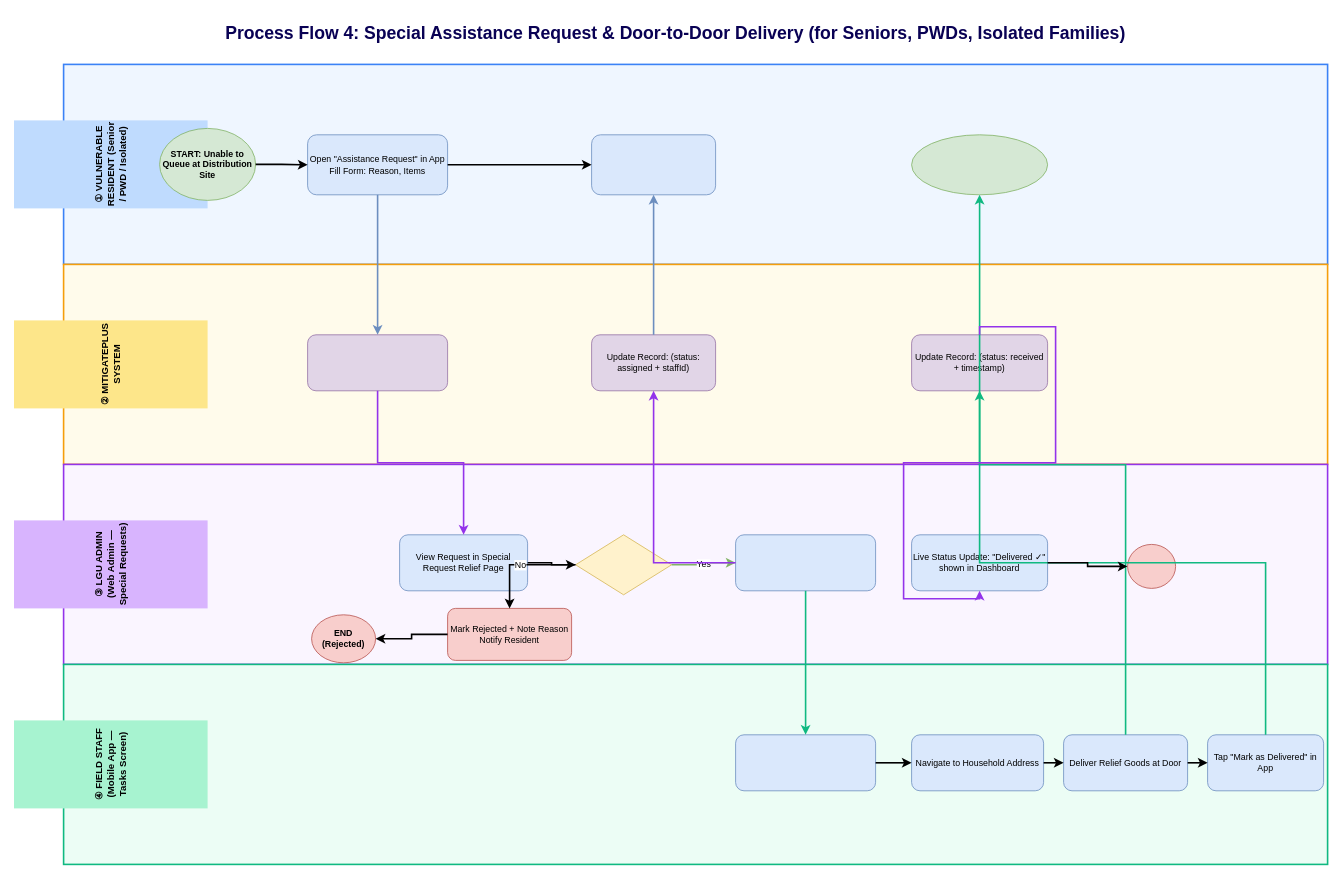
Image size: 1342x878. Some labels were removed from this diagram. The shapes that lost their labels are listed below. From the top down, each one's box as (x1, y1, x2, y2) in pixels, then its label:
(591, 134, 716, 195): Wait for Staff Assignment & Delivery
(911, 134, 1048, 195): Receives Door-to- Door Delivery from Field Staff
(307, 334, 448, 391): Save Request (status: pending) Log to AuditLog
(575, 534, 672, 595): Approve Request?
(735, 534, 876, 591): Assign Available Field Staff Officer to Deliver
(1127, 544, 1176, 588): END
(735, 734, 876, 791): Receives Task Notification & Address
